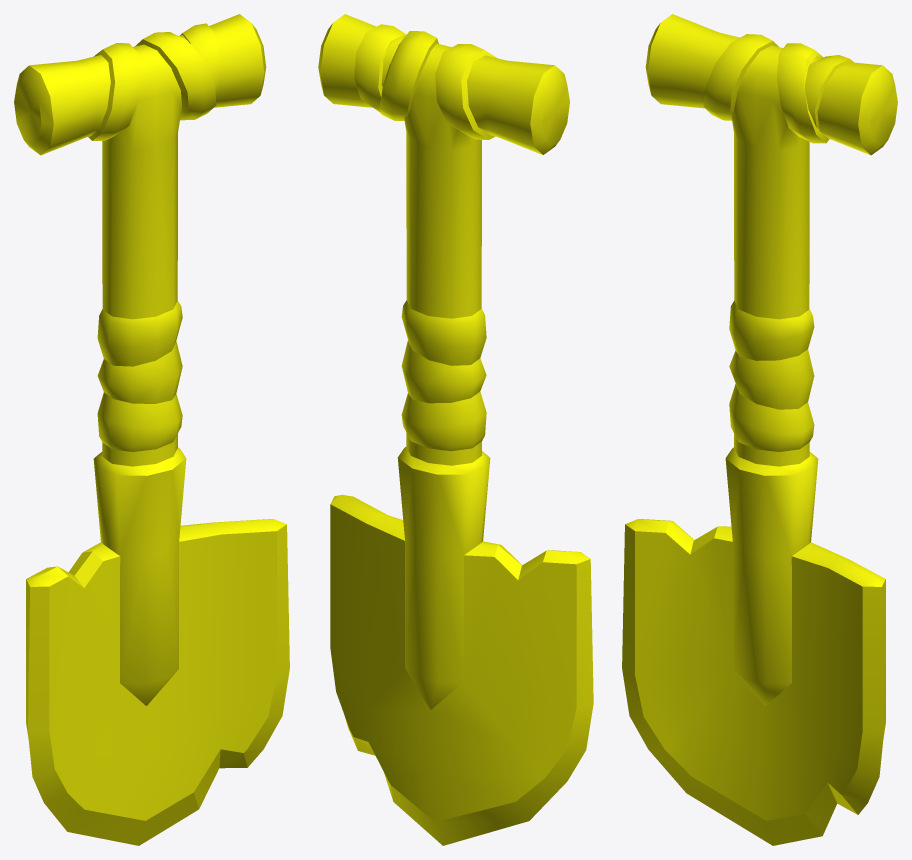
Rendered from kaykit-shovel.glb.
The picture shows the model from 3 angles, left to right: view 1: azimuth 30°, elevation 25°; view 2: azimuth 150°, elevation 25°; view 3: azimuth 330°, elevation 25°; orthographic projection.
Parts seen in each view (by area): view 1: shovel; view 2: shovel; view 3: shovel.
Boxes of the visible parts, <box> form: shovel: <box>14,14,289,845</box>; shovel: <box>318,14,593,845</box>; shovel: <box>622,14,897,845</box>.
Size of the model in its own units: 0.5381 by 1.58 by 0.1562.
